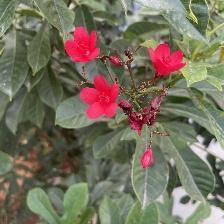jatropha: (79, 75, 125, 123), (148, 40, 190, 80), (62, 26, 103, 66)
